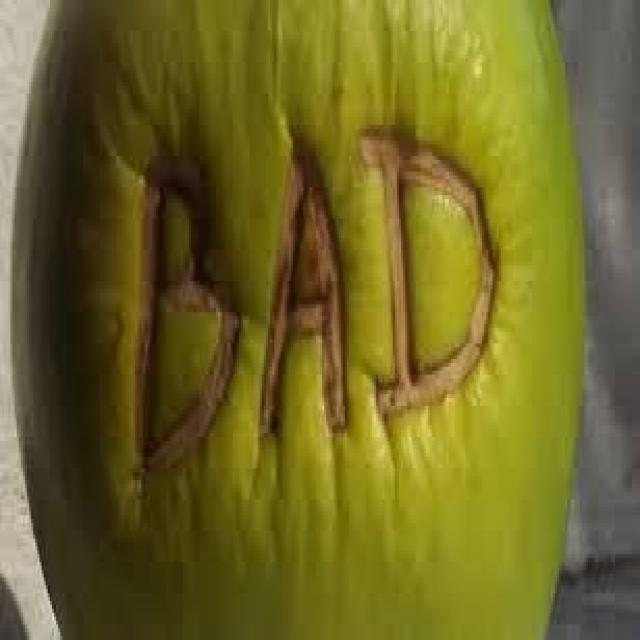Rotten: (20, 4, 593, 640)
